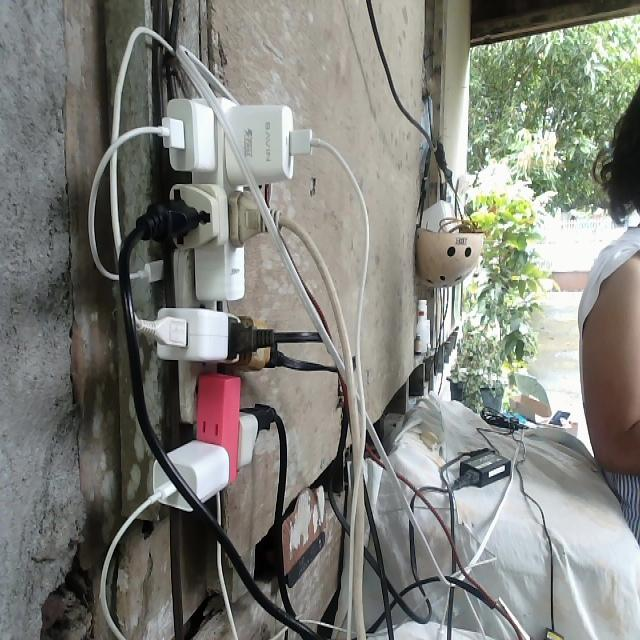-: (133, 90, 320, 514)
